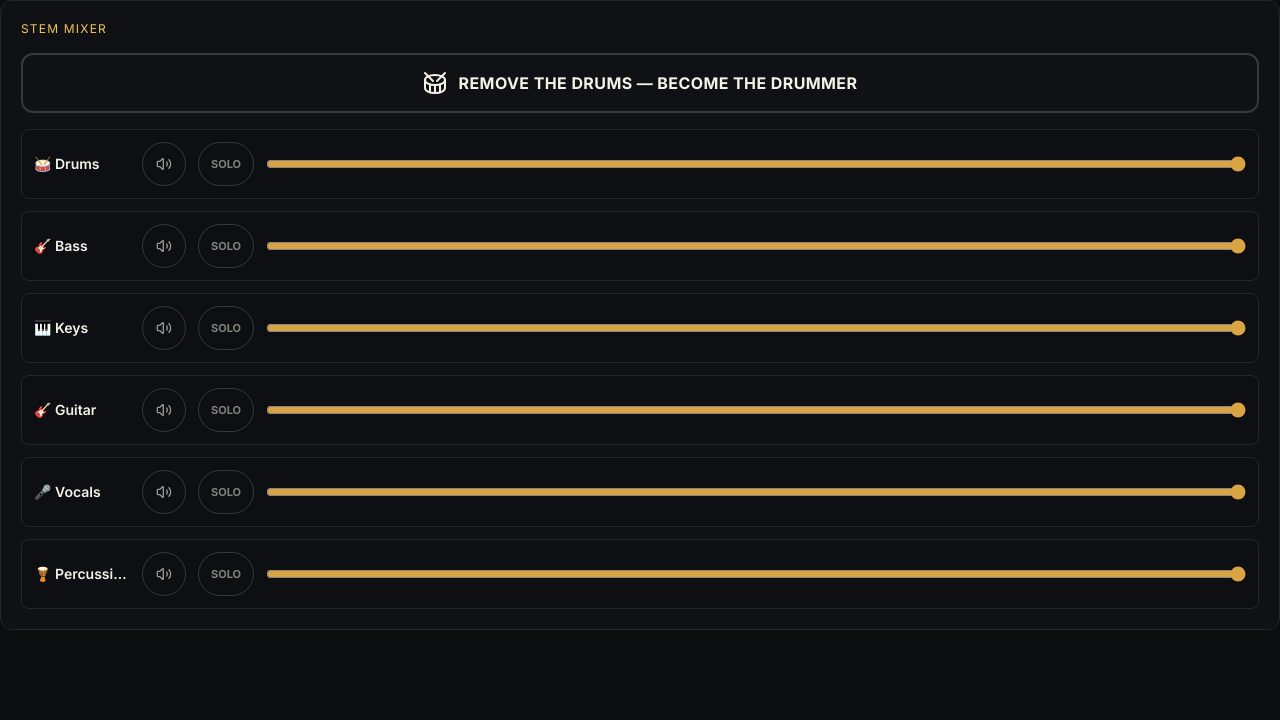
StemMixer › volume slider is disabled while the stem is muted
The image size is (1280, 720).
Click the button named "Mute Percussion" at (164, 574), box x1=142 y1=552 x2=186 y2=596
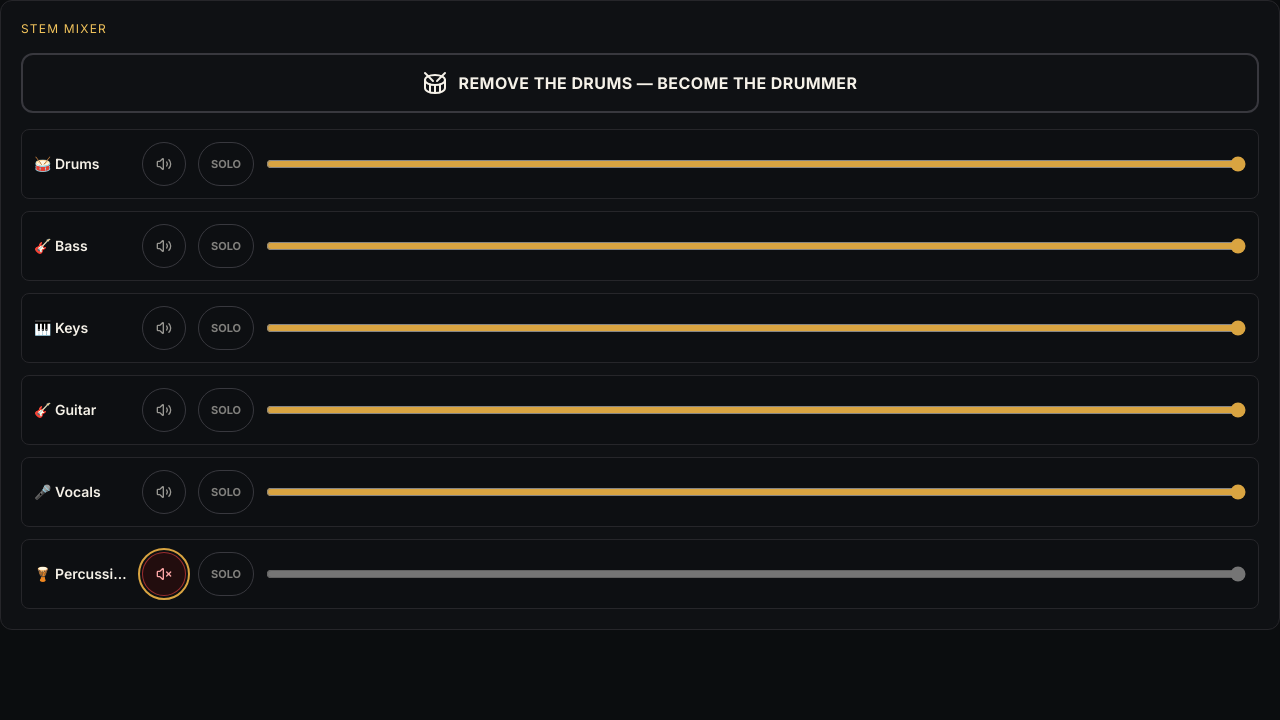
Now the slider named "Percussion volume" is disabled, box x1=266 y1=554 x2=1246 y2=594
